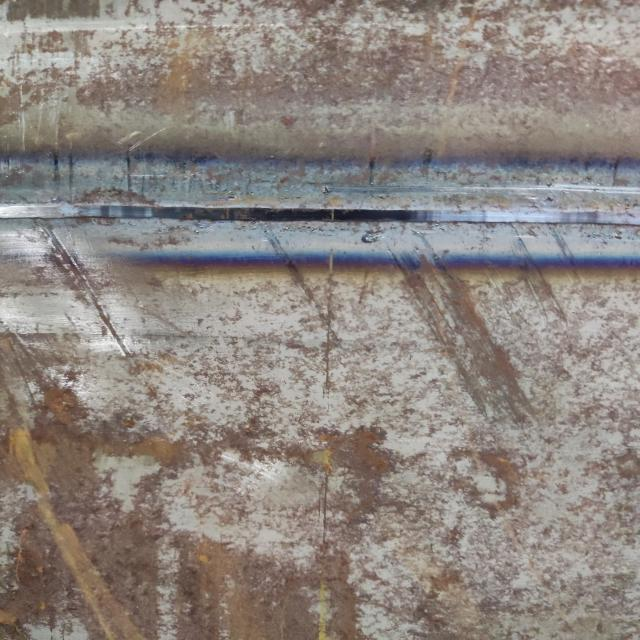seam: (0, 141, 639, 280)
